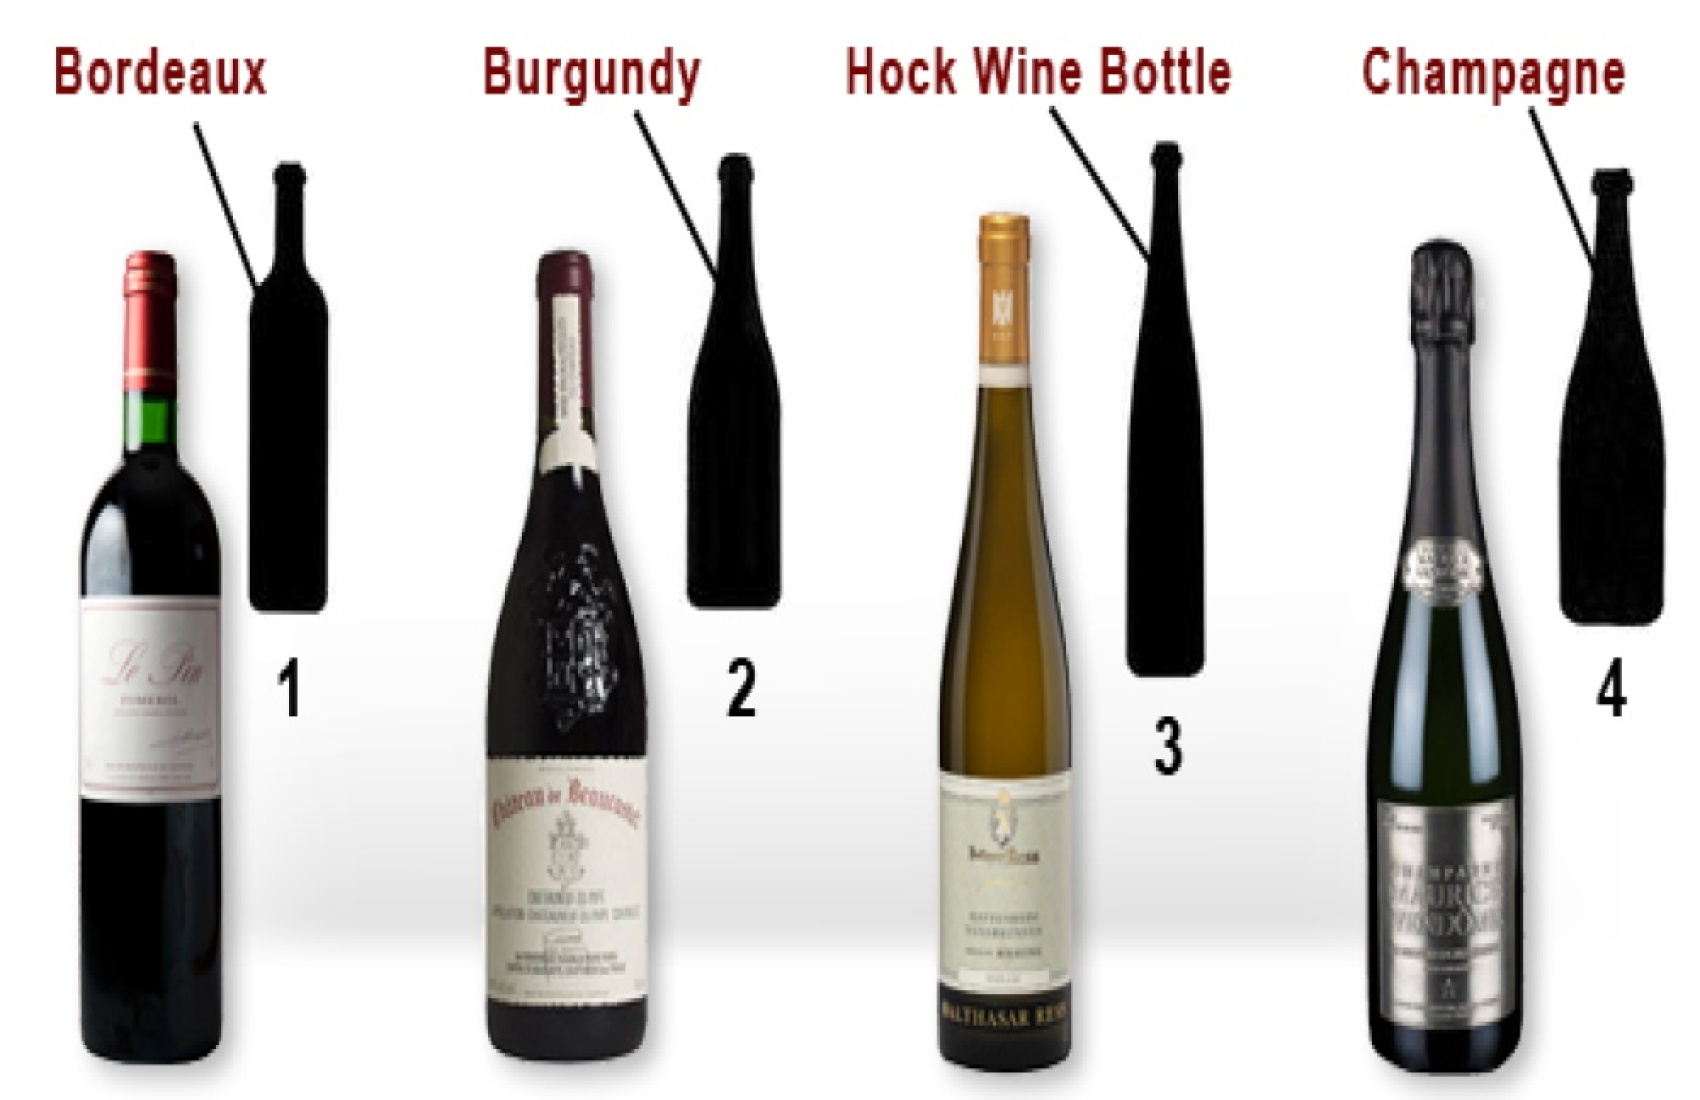wine: (484, 247, 644, 1059), (81, 251, 240, 1064), (1363, 242, 1522, 1053), (927, 258, 1067, 1060)
